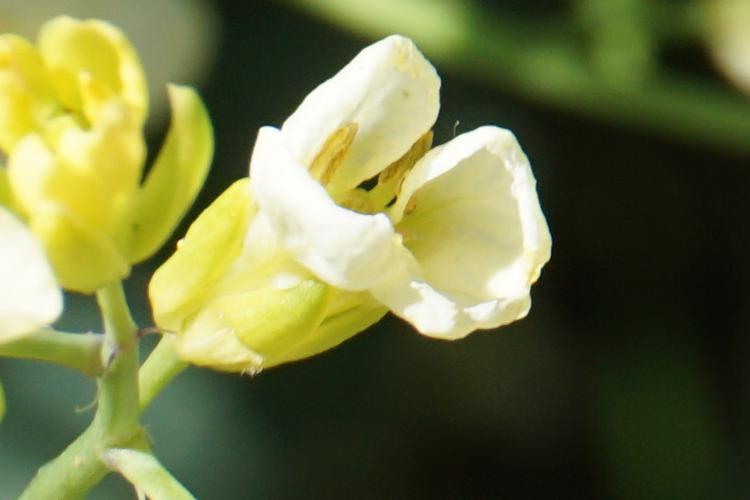white: (232, 56, 566, 348)
yellow: (9, 28, 199, 265)
